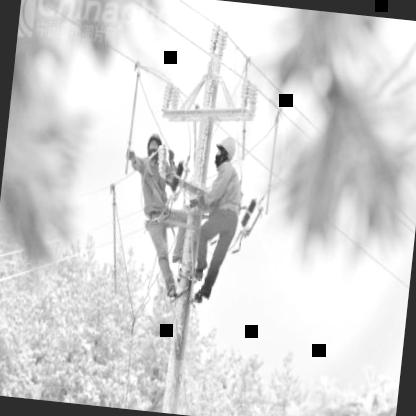helmet: (213, 132, 241, 170), (144, 129, 164, 162)
